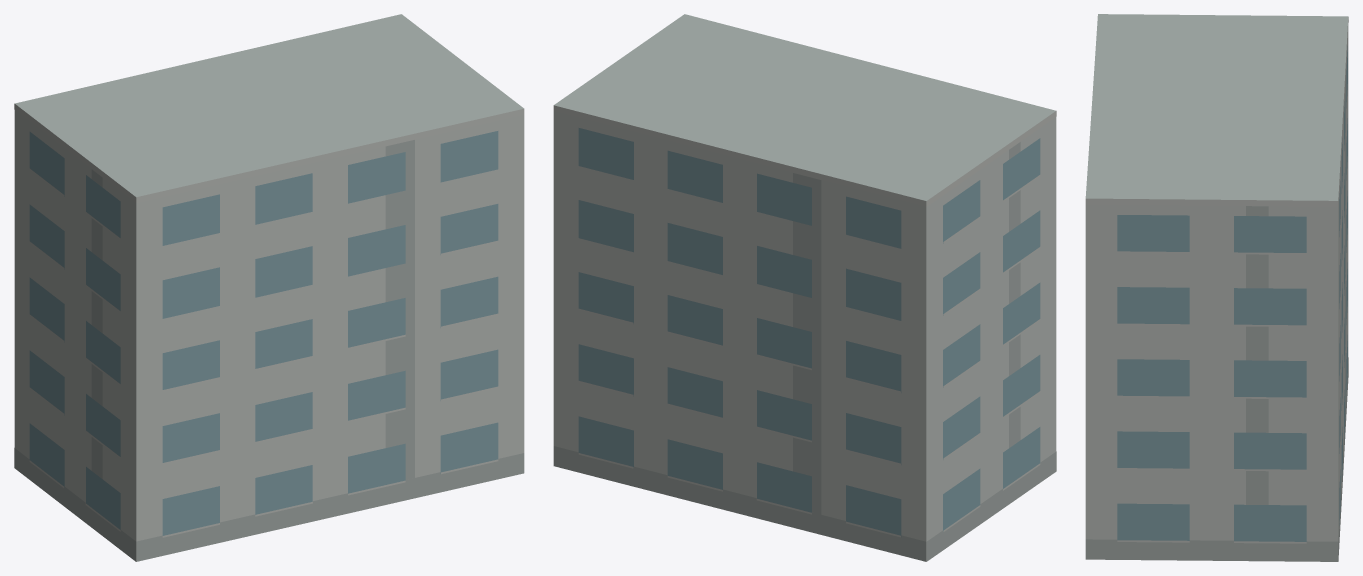
The model's file is survey-upis-32819597.glb.
3 views of the same model, side by side, from view 1: azimuth 30°, elevation 25°; view 2: azimuth 150°, elevation 25°; view 3: azimuth 270°, elevation 25° (orthographic).
Visible parts, largest first — view 1: survey-upis-32819597.tmp; view 2: survey-upis-32819597.tmp; view 3: survey-upis-32819597.tmp.
Boxes of the visible parts, x1,y1,x2,y2 form: survey-upis-32819597.tmp: [14, 14, 524, 561]; survey-upis-32819597.tmp: [553, 14, 1056, 561]; survey-upis-32819597.tmp: [1085, 14, 1348, 561].
Size of the model in its own units: 16.11 by 14.5 by 9.57.
